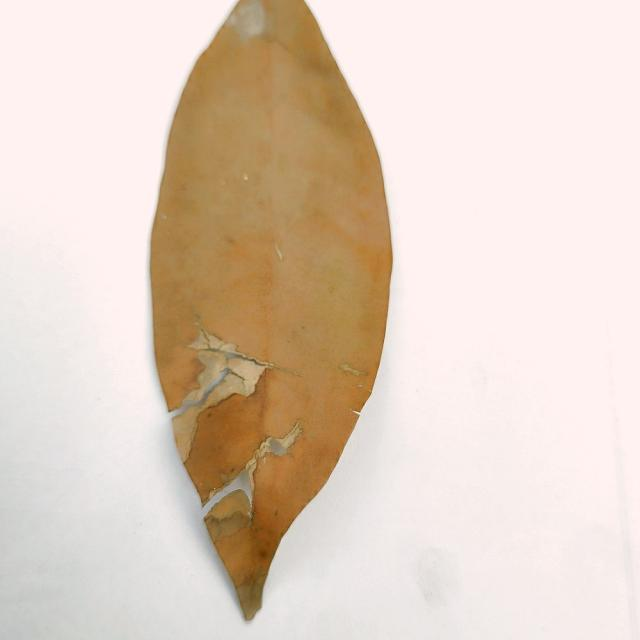Dry_Leaf-Lychee: (148, 0, 394, 623)
